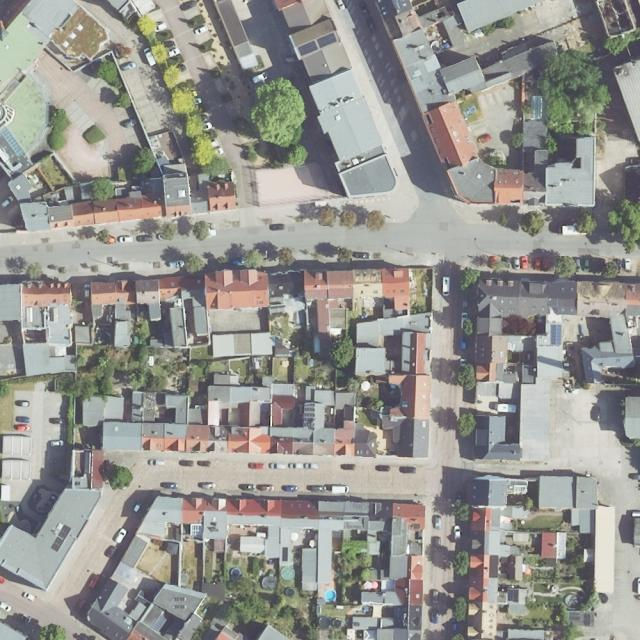PV: (297, 40, 318, 57), (317, 33, 337, 48), (303, 403, 314, 427), (551, 324, 561, 345), (395, 608, 405, 620), (508, 590, 517, 602)
ST: (49, 524, 72, 553)
